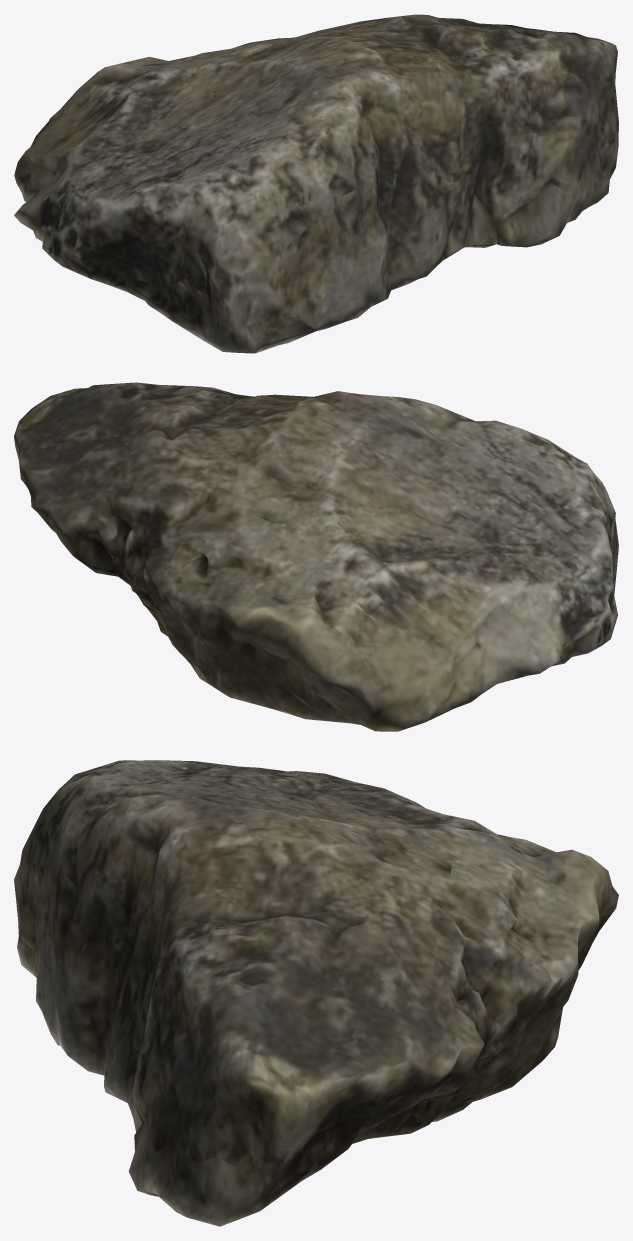
File: SM_RockMoss_B04.gltf
The picture shows the model from 3 angles, top to bottom: view 1: azimuth 30°, elevation 25°; view 2: azimuth 150°, elevation 25°; view 3: azimuth 270°, elevation 25°; orthographic projection. The views are drawn at different scales.
Parts seen in each view (by area): view 1: SM_RockMoss_B04; view 2: SM_RockMoss_B04; view 3: SM_RockMoss_B04.
Boxes of the visible parts, <box> form: SM_RockMoss_B04: <box>14,14,618,353</box>; SM_RockMoss_B04: <box>14,382,618,731</box>; SM_RockMoss_B04: <box>14,760,618,1226</box>.
Bounding box in the file's own units: 2.2 × 0.7675 × 1.55.
Materials: 1 (1 with a texture image).
